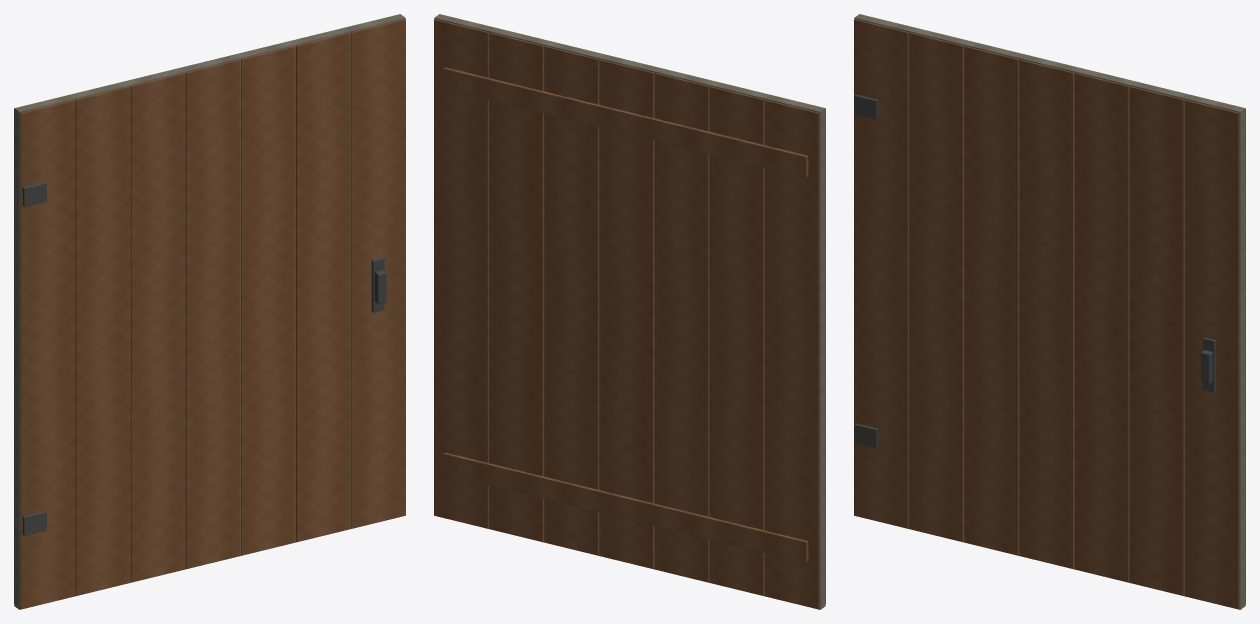
File: MRP_WindowShutter_Single.fbx
3 renders of one model, left to right at view 1: azimuth 30°, elevation 25°; view 2: azimuth 150°, elevation 25°; view 3: azimuth 330°, elevation 25°, orthographic.
Parts seen in each view (by area): view 1: MRP_WindowShutter_Single_Hinge_Mesh; view 2: MRP_WindowShutter_Single_Hinge_Mesh; view 3: MRP_WindowShutter_Single_Hinge_Mesh.
Part boxes in pixels (left/top/right/bottom): MRP_WindowShutter_Single_Hinge_Mesh: left=14, top=14, right=405, bottom=609; MRP_WindowShutter_Single_Hinge_Mesh: left=434, top=14, right=825, bottom=609; MRP_WindowShutter_Single_Hinge_Mesh: left=854, top=14, right=1245, bottom=609.
Size of the model in its own units: 0.86 by 1.06 by 0.054.
